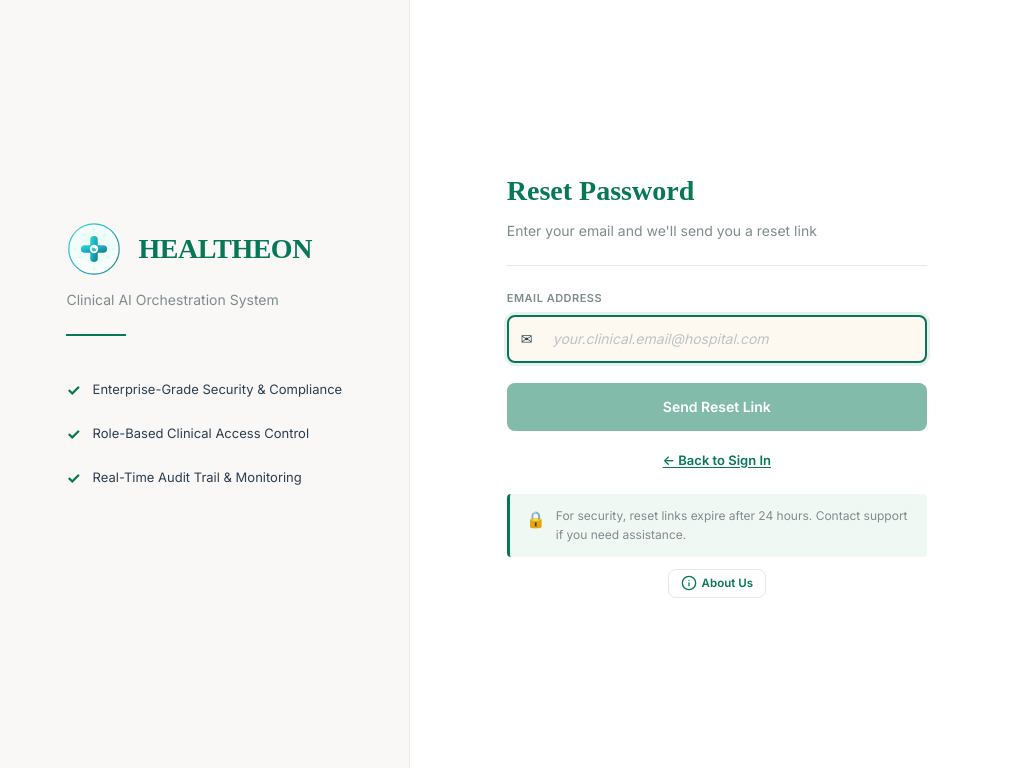
ForgotPasswordPage › shows success message after sending
Type "test@test.com" into the field with placeholder "your.clinical.email@hospital.com" at (717, 339), box [507,315,927,363]
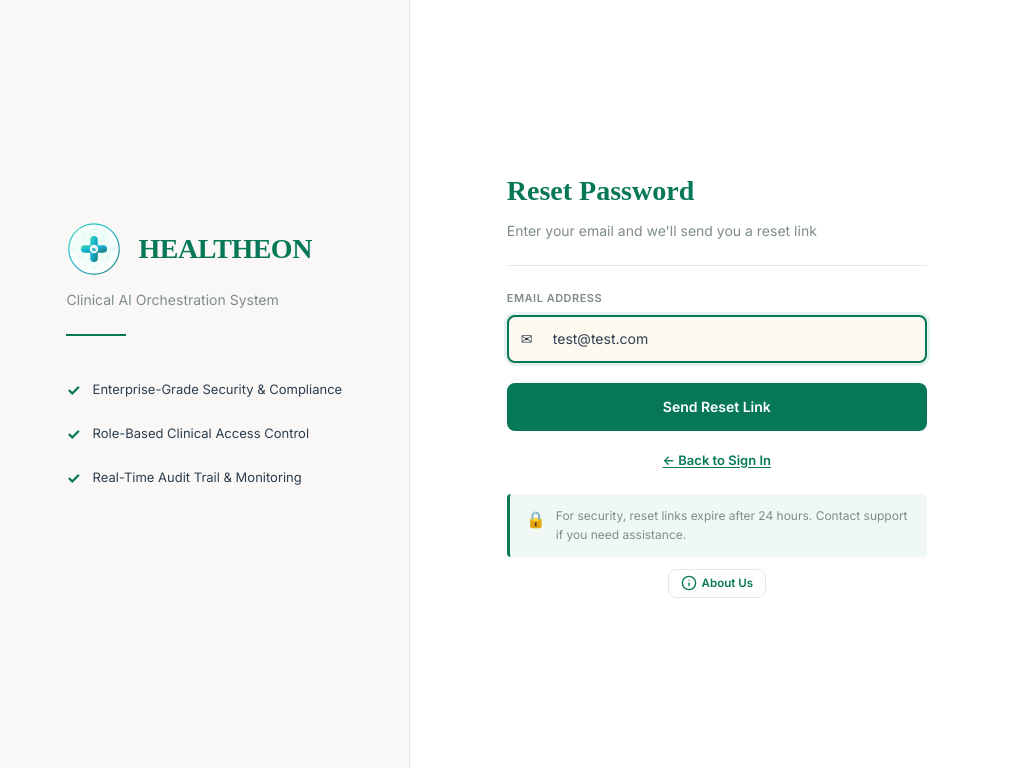
Click the button "Send Reset Link" at (717, 407), box [507,383,927,431]
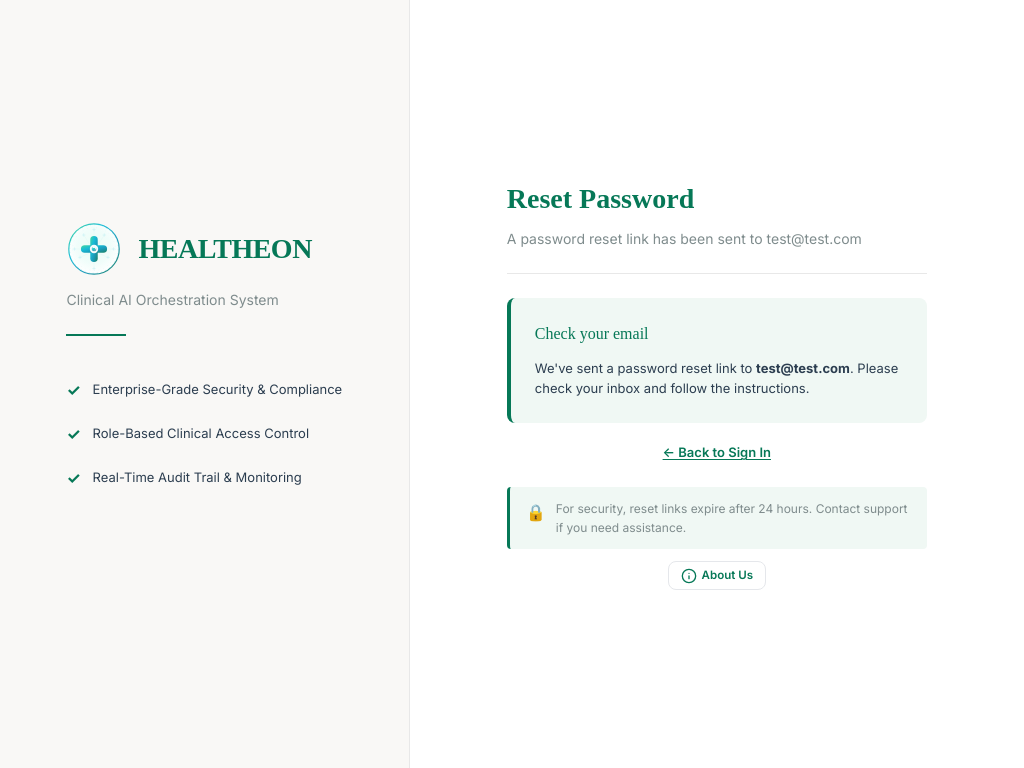
Now the heading "Check your email" is shown, box [535,325,649,342]
